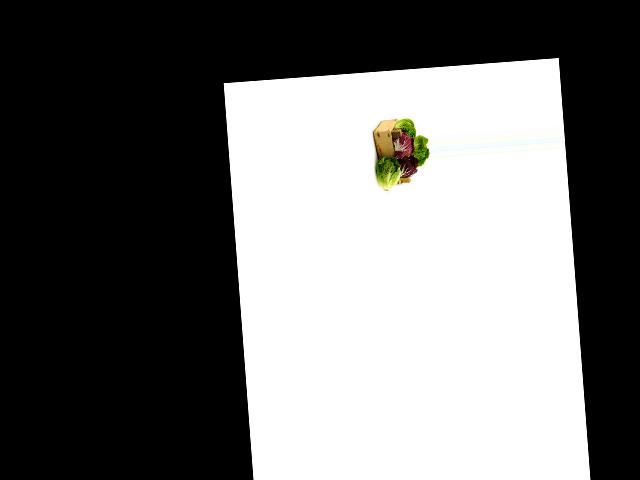lettuce: (407, 134, 430, 167)
